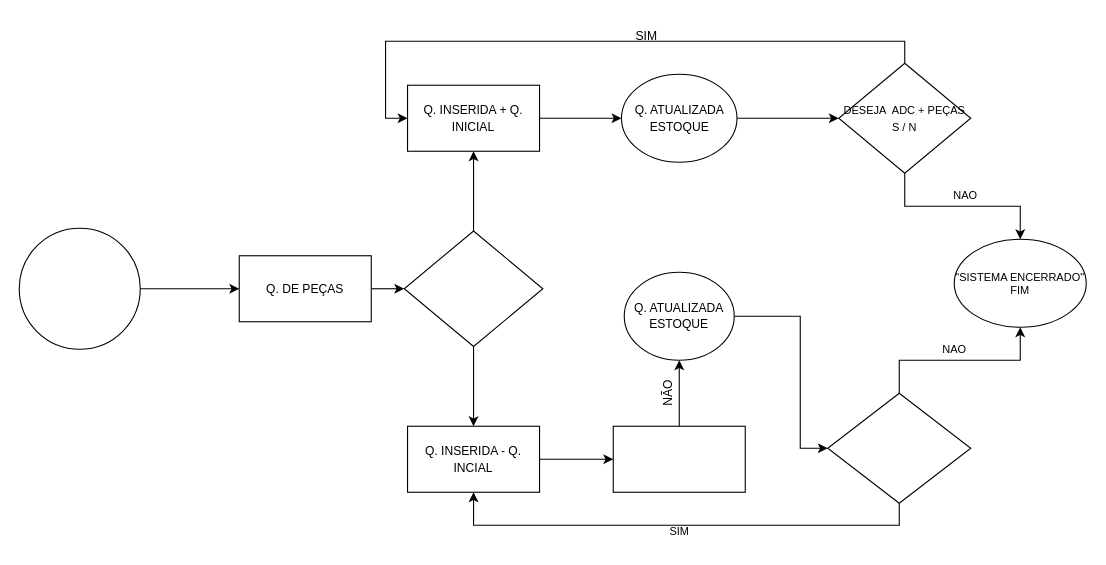
Some shapes in this 1106 by 565 pixel diagram are drawn without their labels. The centre of each missing label's shape, as x and y in pixels:
1 = ENTRADA 2 = SAIDA: [473,288]
DESEJA SUBTRAIR + PEÇAS S / N: [899,447]
INÍCIO: [79,288]
SE Q. INSERIDA > Q. INCIAL "SALDO INSUFICIENTE': [678,458]
